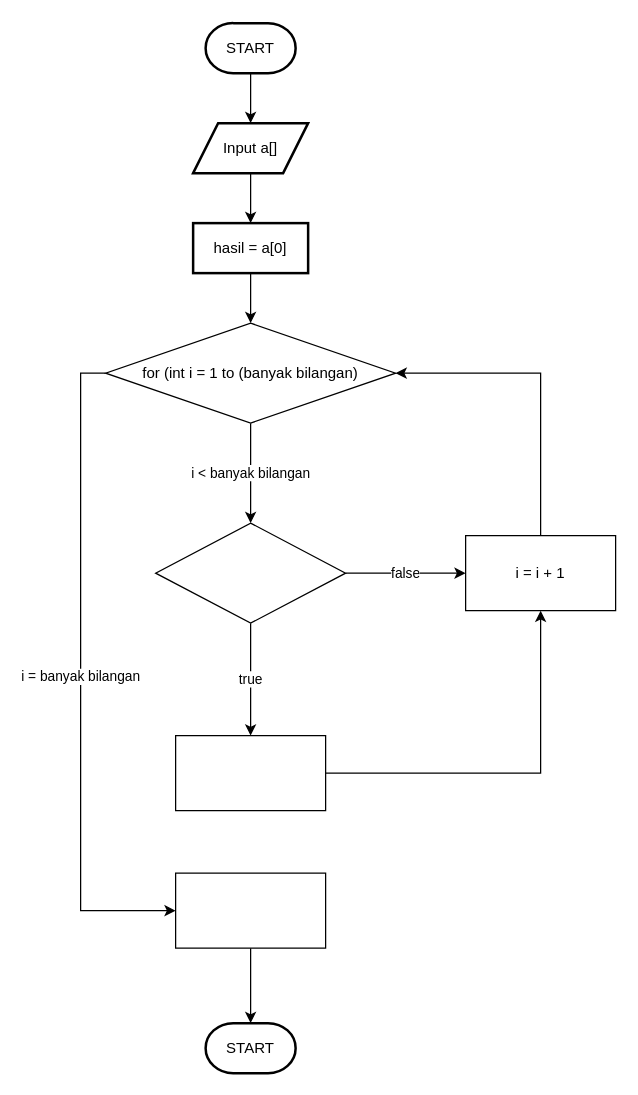
The diagram is 638 pixels wide and 1095 high, and some of its shapes have lost their labels. Each missing label, with the centre of its shape:
cetak (hasil): (250,910)
hasil = a ke-i: (250,772)
if (hasil) < a(a ke-i): (250,572)
